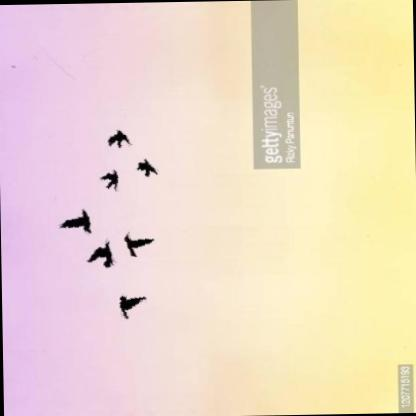bird: (56, 205, 100, 242), (112, 283, 153, 320), (82, 234, 119, 274), (122, 228, 161, 259), (103, 122, 134, 152), (129, 153, 162, 181), (98, 165, 124, 193)
